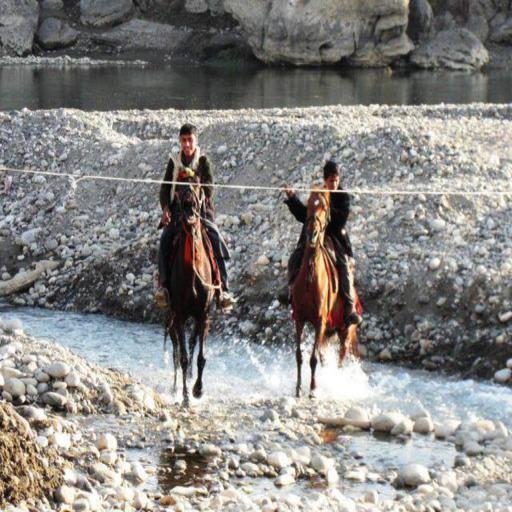horse: (288, 181, 358, 399), (158, 168, 218, 408)
